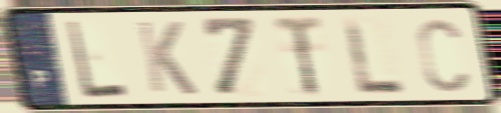7: (197, 15, 262, 100)
C: (414, 15, 471, 95)
K: (133, 18, 200, 98)
L: (340, 14, 408, 97), (64, 17, 130, 101)
T: (269, 13, 325, 99)
